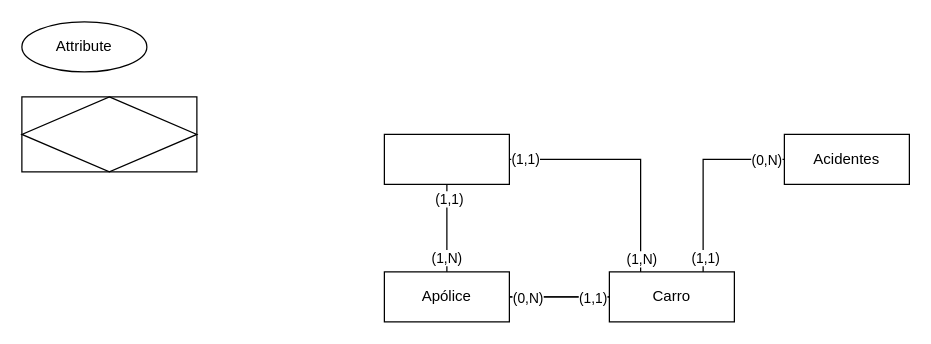
Some shapes in this 931 by 344 pixel diagram are drawn without their labels. The box of each missing label's shape, as (x1, y1, x2, y2) in pixels:
Associative Entity: (21, 96, 197, 172)
Cliente: (383, 133, 509, 184)
